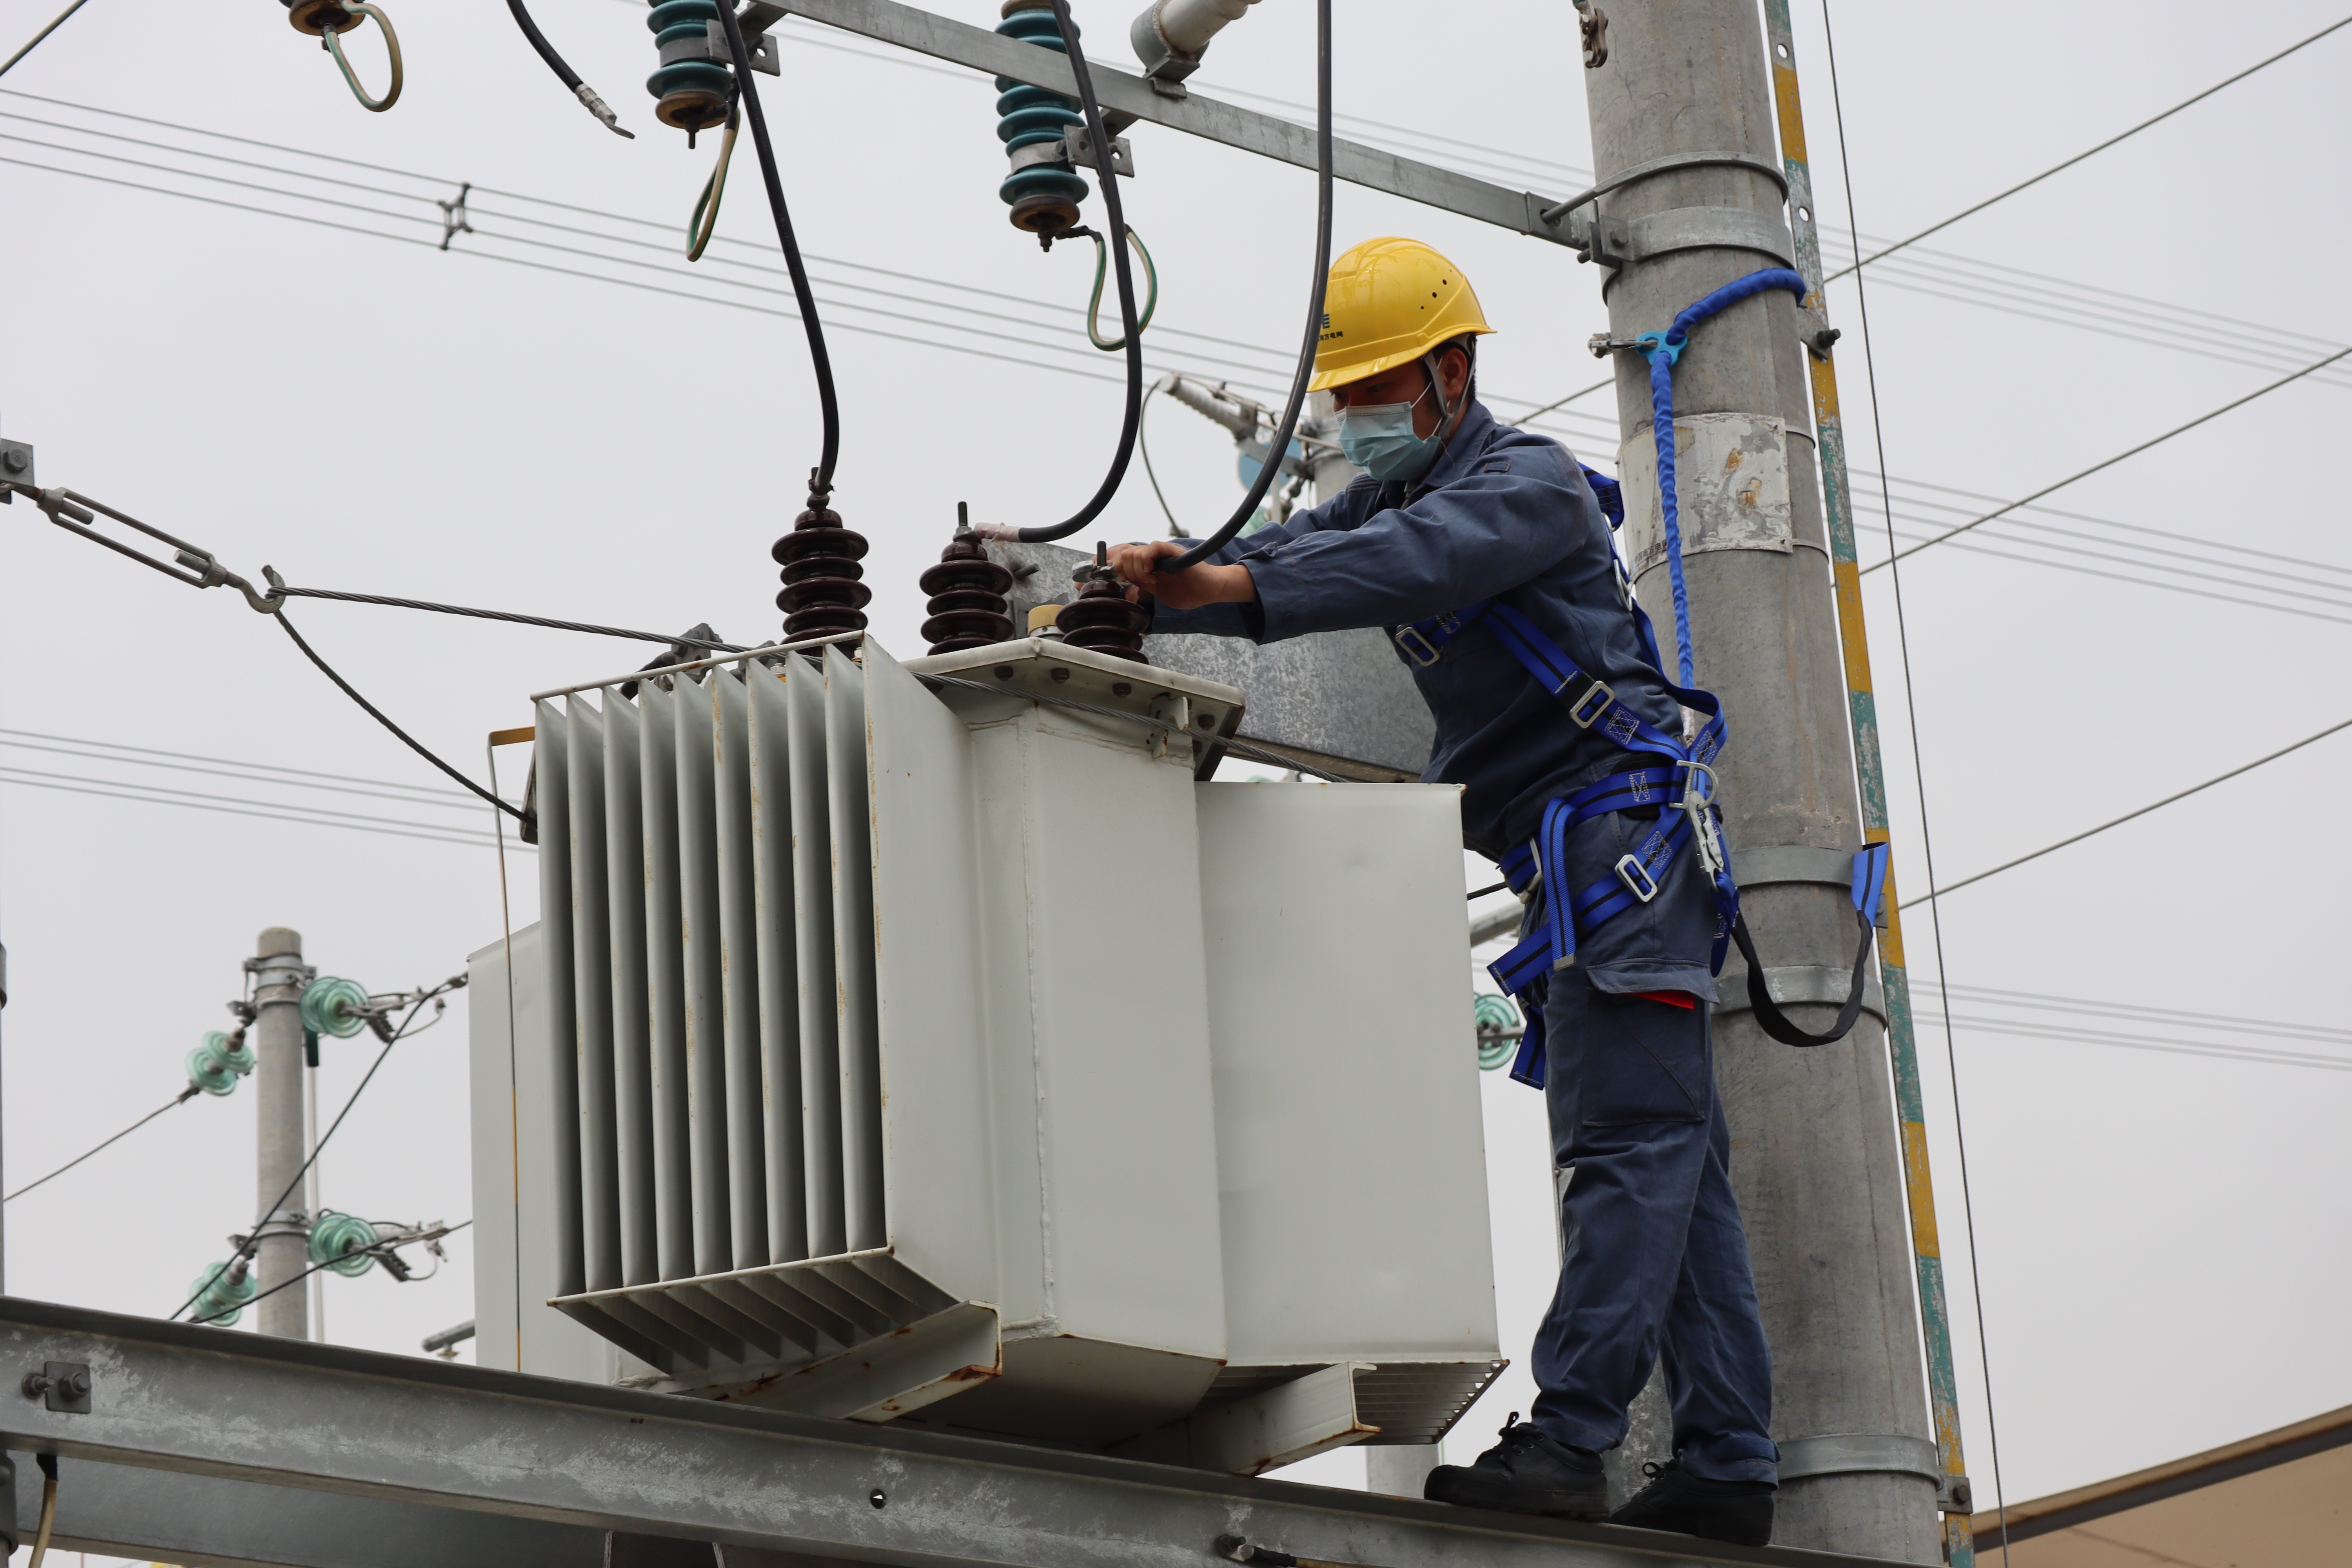downsuit: (1480, 795, 1781, 1482)
upsuit: (1134, 397, 1701, 784)
